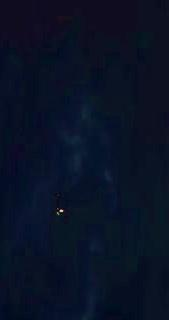Plane: (52, 202, 70, 222)
